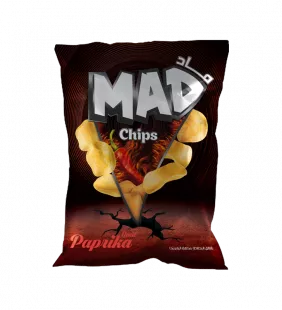MAD: (43, 32, 237, 277)
